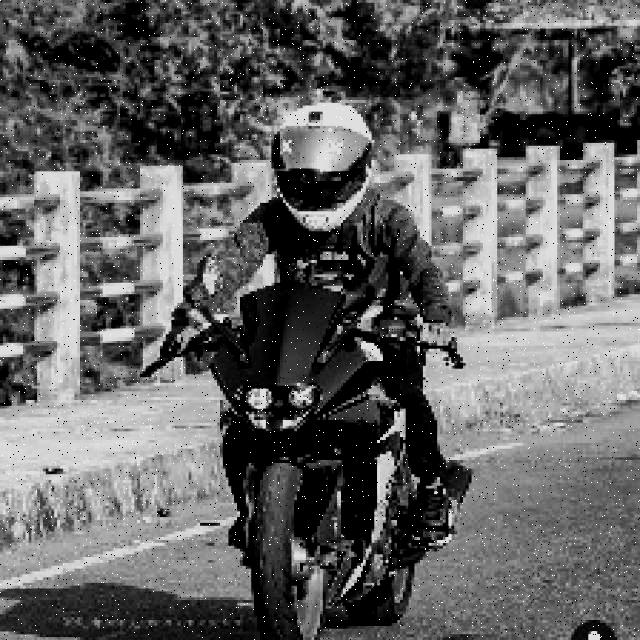Bike: (192, 274, 420, 640)
